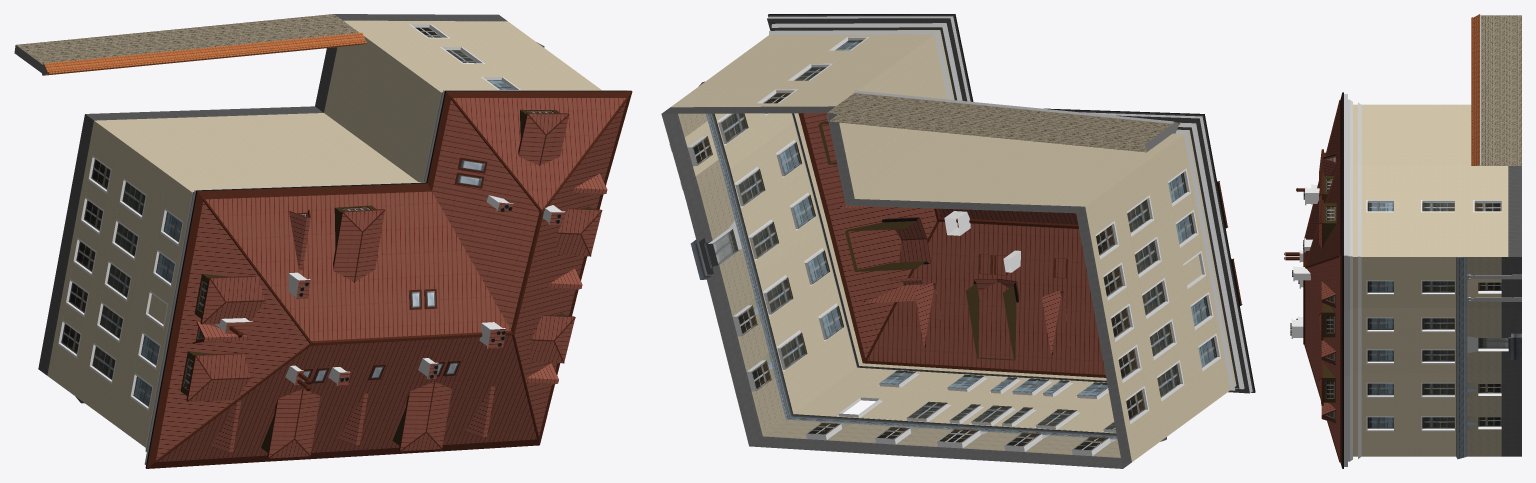
Rendered from Lai_15.obj.
3 renders of one model, left to right at view 1: azimuth 30°, elevation 25°; view 2: azimuth 150°, elevation 25°; view 3: azimuth 270°, elevation 25°, orthographic. The views are drawn at different scales.
Parts seen in each view (by area): view 1: Lai_15; view 2: Lai_15; view 3: Lai_15.
Boxes of the visible parts, box(x1,y1,x2,y2) form: Lai_15: box(14, 14, 632, 468); Lai_15: box(661, 14, 1255, 468); Lai_15: box(1284, 14, 1521, 468).
Bounding box in the file's own units: 35.57 × 28.19 × 19.73.
